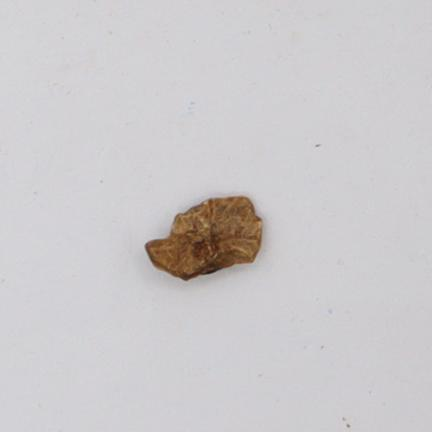full-black: (145, 197, 262, 280)
